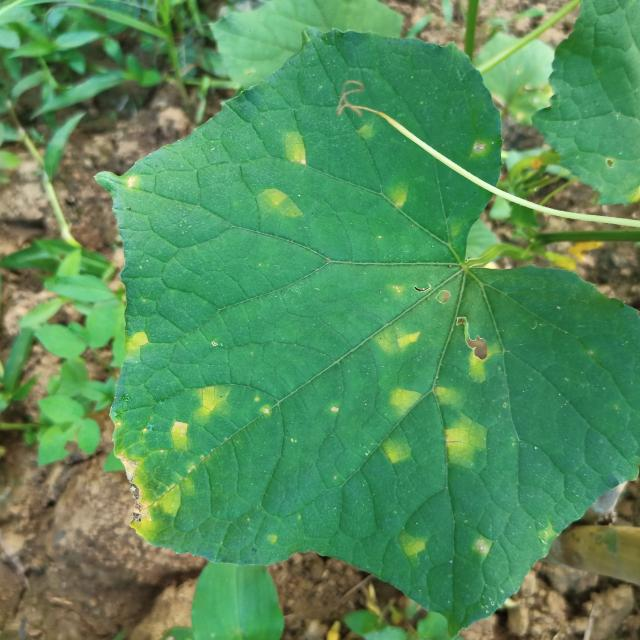disease_cucumber: (368, 271, 492, 488), (119, 380, 223, 551), (257, 122, 312, 228), (391, 520, 432, 570), (376, 170, 410, 218), (118, 319, 150, 366)
